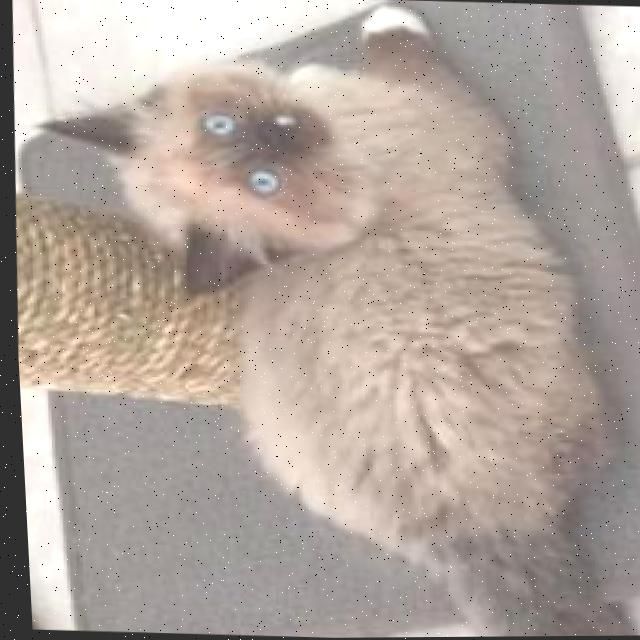Birman: (5, 0, 640, 640)
